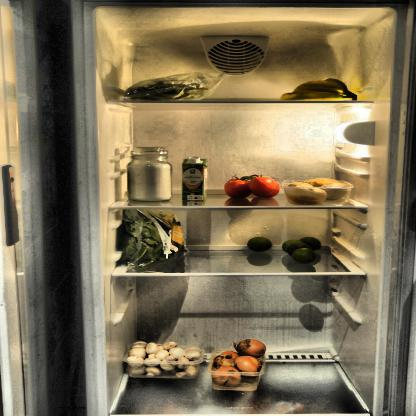banana: (277, 77, 361, 103)
green_beans: (112, 70, 225, 99)
heavy_cream: (180, 156, 210, 204)
lime: (247, 236, 325, 263)
mushrooms: (121, 339, 204, 375)
onion: (212, 337, 269, 392)
potato: (284, 174, 354, 205)
spinach: (120, 208, 186, 268)
tomato: (222, 173, 282, 201)
